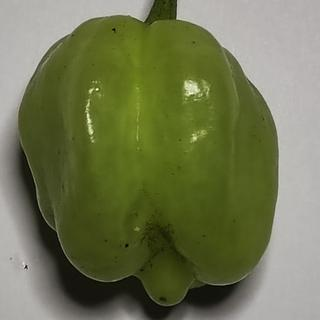Defect: (137, 213, 187, 270)
Fly-bites: (107, 23, 123, 38), (155, 291, 169, 306), (121, 240, 134, 253)
